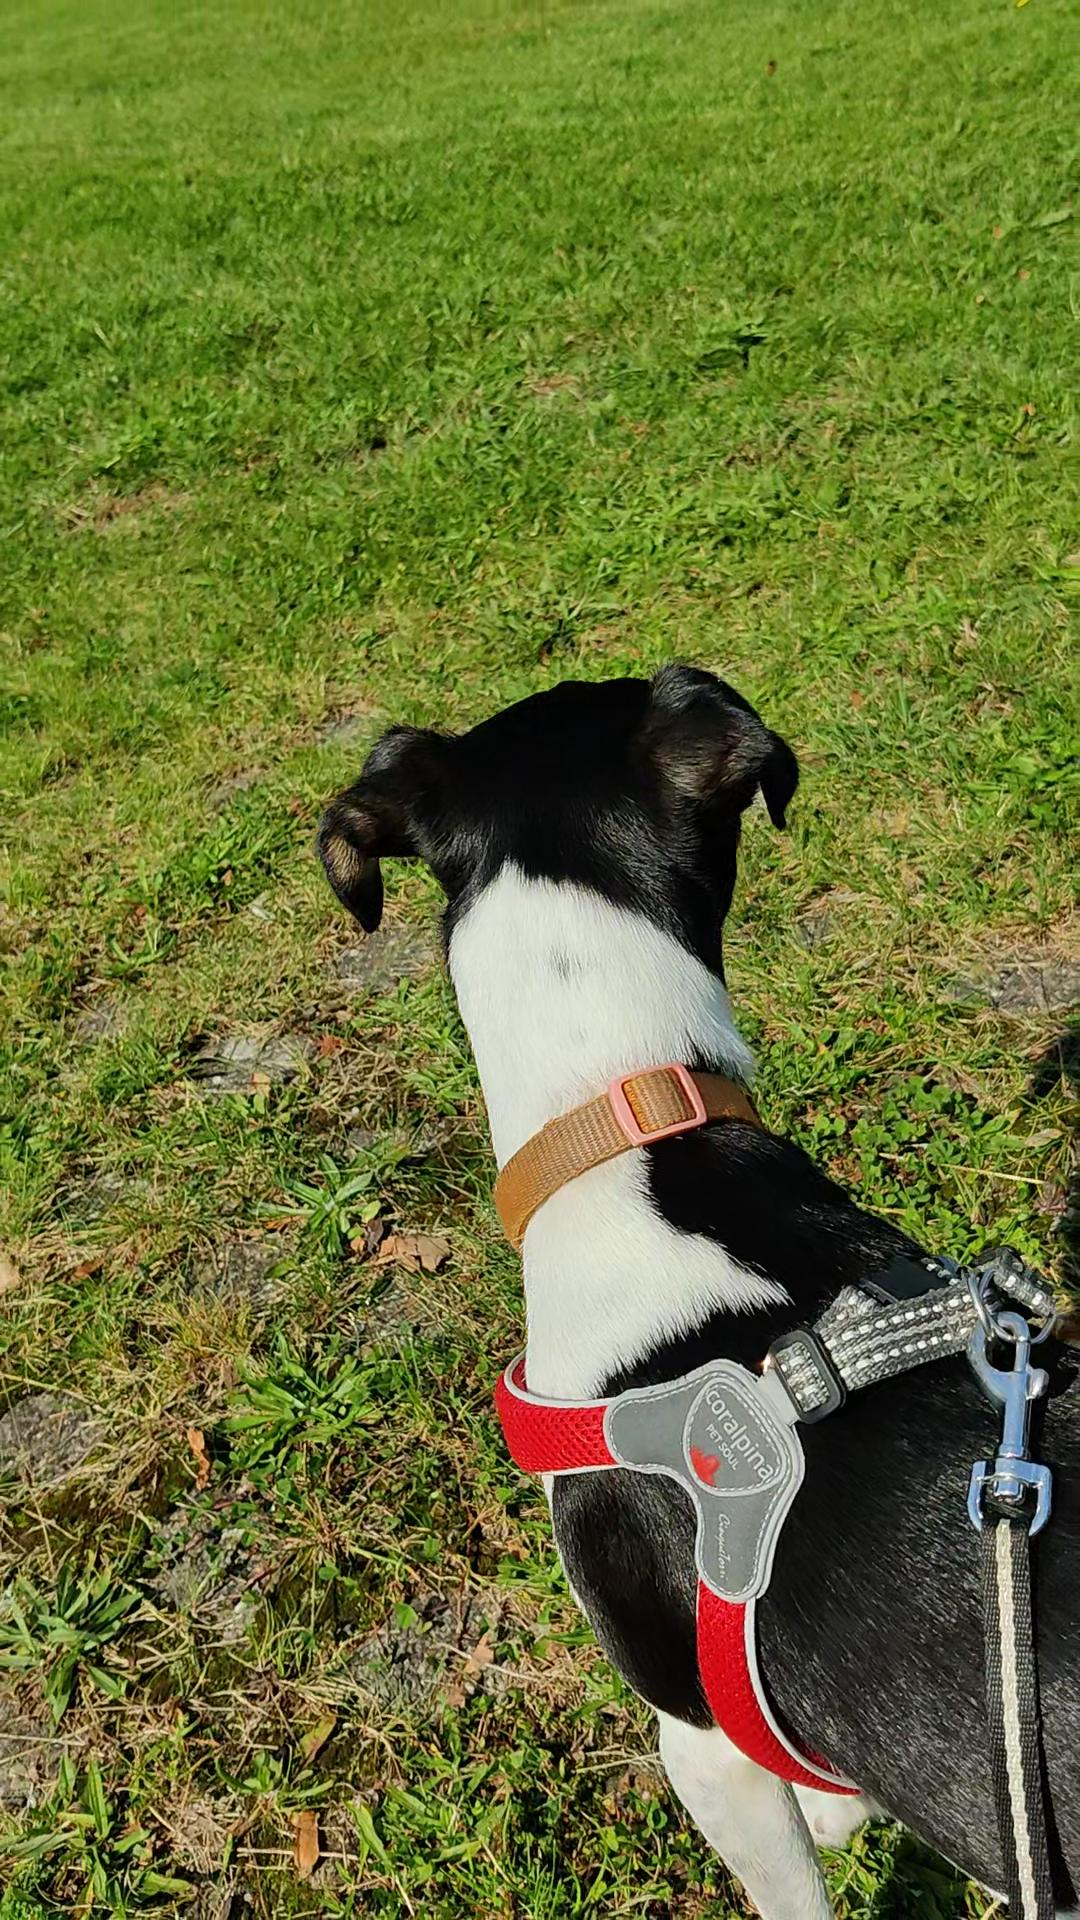Dog: (272, 640, 1079, 1919)
